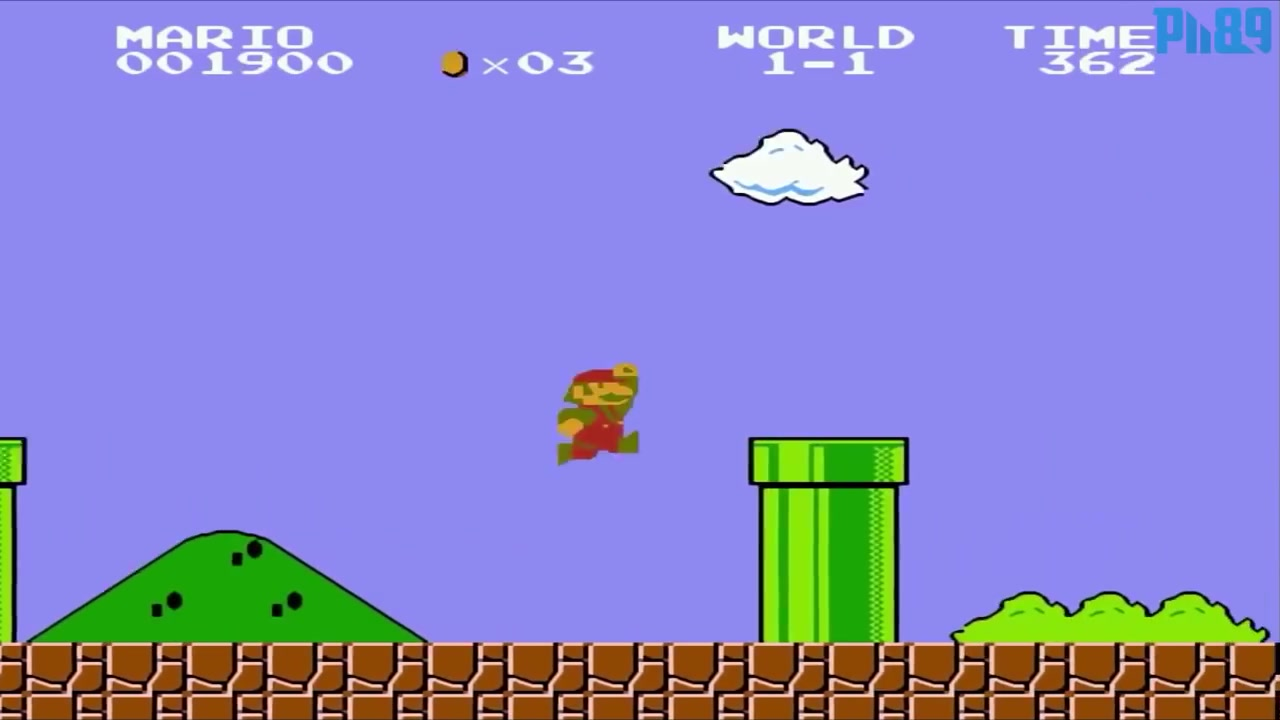mario: (547, 358, 648, 475)
